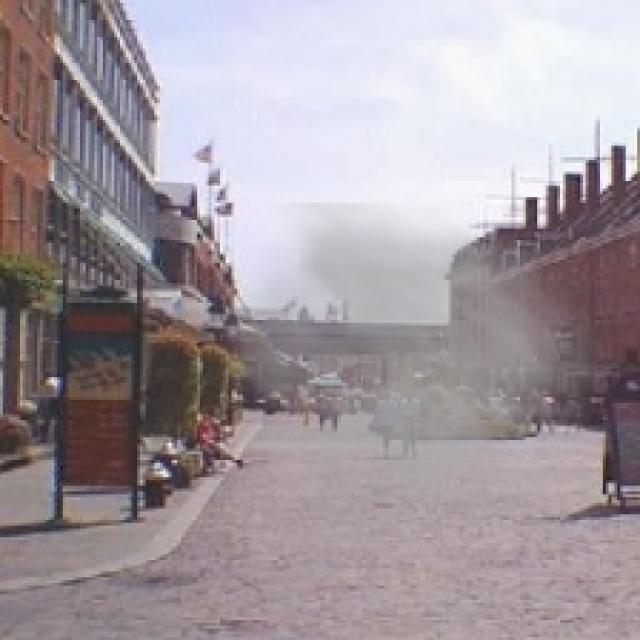smoke: (203, 203, 617, 546)
